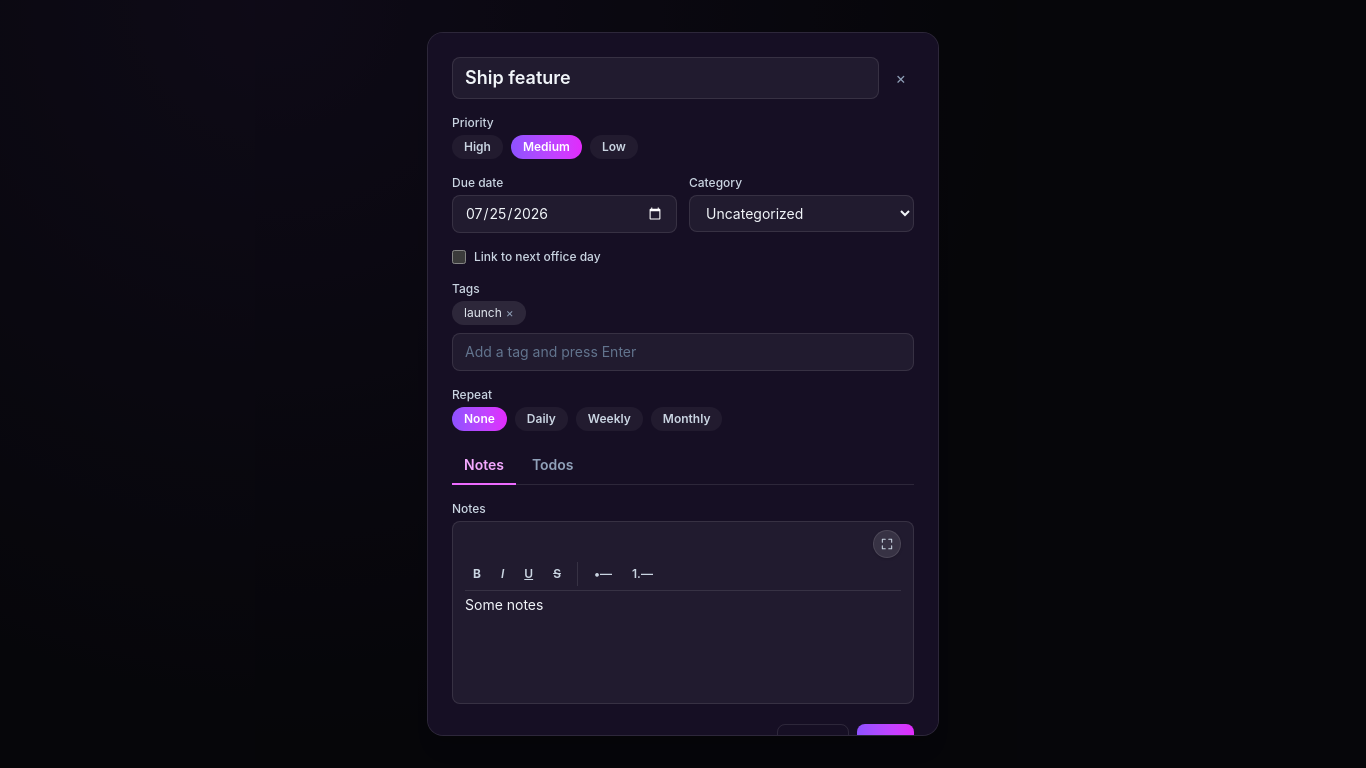
Test case: TodoDetail › linking other todos › collapses to a read-only header (title/priority/due date/category) on the Todos tab
Click the tab "Todos".
click(553, 466)  # box [520,447,586,485]
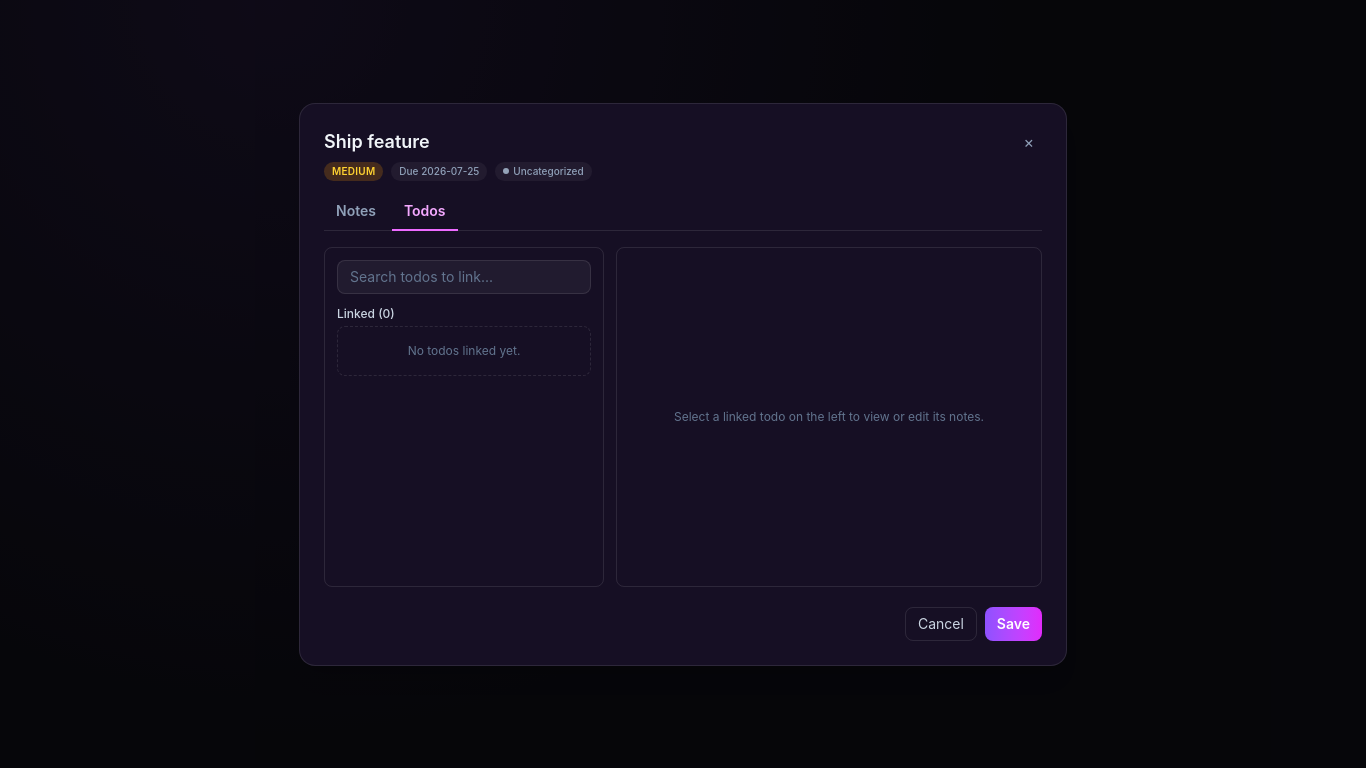
Expected: the text "Medium" is shown, [324,162,383,180]
Expected: the heading "Ship feature" is shown, [324,130,430,152]
Expected: the text "Due 2026-07-25" is shown, [391,162,487,180]
